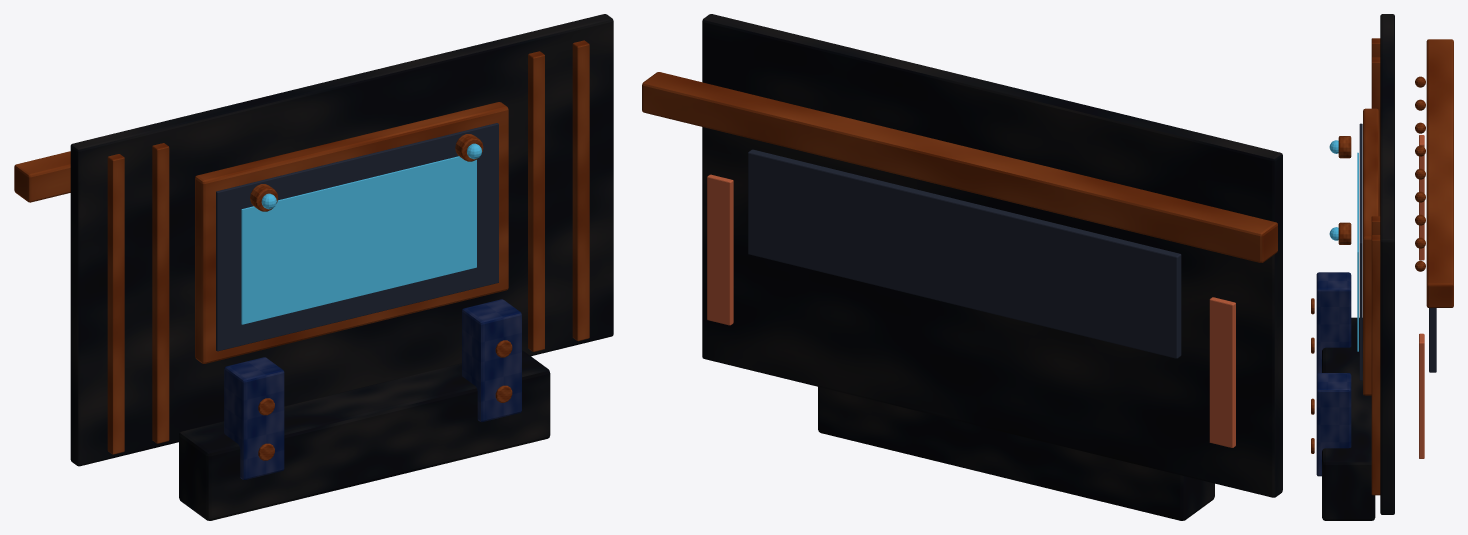
Rendered from urban-media-composition-pbr-v1.glb.
The picture shows the model from 3 angles, left to right: view 1: azimuth 30°, elevation 25°; view 2: azimuth 150°, elevation 25°; view 3: azimuth 270°, elevation 25°; orthographic projection. The views are drawn at different scales.
Parts seen in each view (by area): view 1: media-wall-backdrop, media-wall-console, media-wall-screen-glow, media-wall-decorative-screen, media-wall-screen-frame, media-wall-speaker, media-wall-speaker.001, media-wall-vertical-slat.003, media-wall-vertical-slat, media-wall-vertical-slat.001, media-wall-vertical-slat.002, media-cinema-marquee; view 2: media-wall-backdrop, media-cinema-screen, media-cinema-marquee, media-wall-console, media-cinema-banner.001, media-cinema-banner; view 3: media-cinema-marquee, media-wall-backdrop, media-wall-console, media-wall-screen-frame, media-wall-speaker.001, media-wall-speaker, media-wall-vertical-slat.003, media-wall-decorative-screen, media-cinema-banner.001, media-wall-vertical-slat.001, media-cinema-screen, media-cinema-banner (+5 smaller).
Part boxes in pixels (bbox=[...]): media-wall-backdrop: bbox=[70, 14, 613, 466]; media-wall-console: bbox=[179, 350, 550, 520]; media-wall-screen-glow: bbox=[241, 156, 476, 324]; media-wall-decorative-screen: bbox=[216, 123, 498, 351]; media-wall-screen-frame: bbox=[195, 102, 508, 363]; media-wall-speaker: bbox=[224, 357, 284, 479]; media-wall-speaker.001: bbox=[462, 299, 521, 421]; media-wall-vertical-slat.003: bbox=[572, 40, 589, 341]; media-wall-vertical-slat: bbox=[107, 154, 124, 454]; media-wall-vertical-slat.001: bbox=[152, 143, 169, 443]; media-wall-vertical-slat.002: bbox=[528, 51, 544, 351]; media-cinema-marquee: bbox=[14, 151, 70, 202]; media-wall-backdrop: bbox=[702, 14, 1282, 497]; media-cinema-screen: bbox=[748, 149, 1181, 358]; media-cinema-marquee: bbox=[642, 72, 1277, 262]; media-wall-console: bbox=[818, 387, 1214, 520]; media-cinema-banner.001: bbox=[707, 174, 733, 325]; media-cinema-banner: bbox=[1209, 297, 1235, 447]; media-cinema-marquee: bbox=[1426, 39, 1453, 307]; media-wall-backdrop: bbox=[1380, 14, 1394, 514]; media-wall-console: bbox=[1322, 317, 1375, 520]; media-wall-screen-frame: bbox=[1363, 108, 1378, 395]; media-wall-speaker.001: bbox=[1316, 373, 1351, 476]; media-wall-speaker: bbox=[1316, 272, 1351, 373]; media-wall-vertical-slat.003: bbox=[1371, 235, 1380, 495]; media-wall-decorative-screen: bbox=[1359, 123, 1362, 380]; media-cinema-banner.001: bbox=[1419, 333, 1424, 458]; media-wall-vertical-slat.001: bbox=[1371, 57, 1380, 216]; media-cinema-screen: bbox=[1429, 308, 1436, 372]; media-cinema-banner: bbox=[1419, 135, 1424, 260].
Size of the model in its own units: 4.7 by 2.88 by 1.15.
6 materials, 3 textured.
